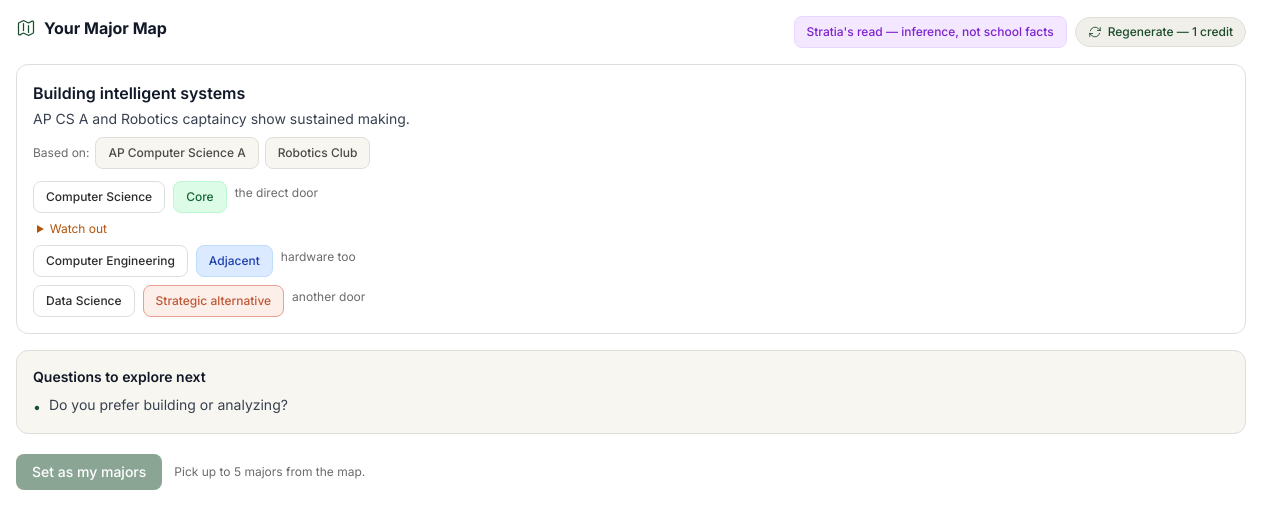
Test: MajorMapCard — generated state › selecting chips and clicking Set as my majors persists via set-intended-majors
The width and height of the screenshot is (1263, 507).
Expected: the heading "Building intelligent systems" is shown, [33, 83, 245, 103]
Click the button with aria-label "Select Computer Science" at x=99, y=197, box [33, 181, 165, 213]
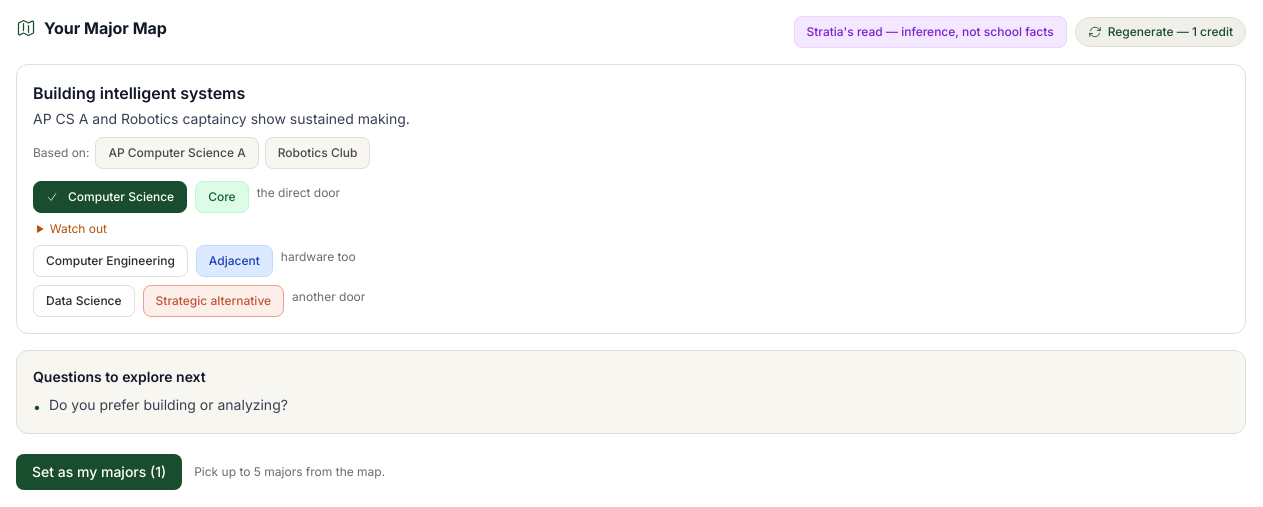
Click the button with aria-label "Select Data Science" at x=84, y=301, box [33, 285, 135, 317]
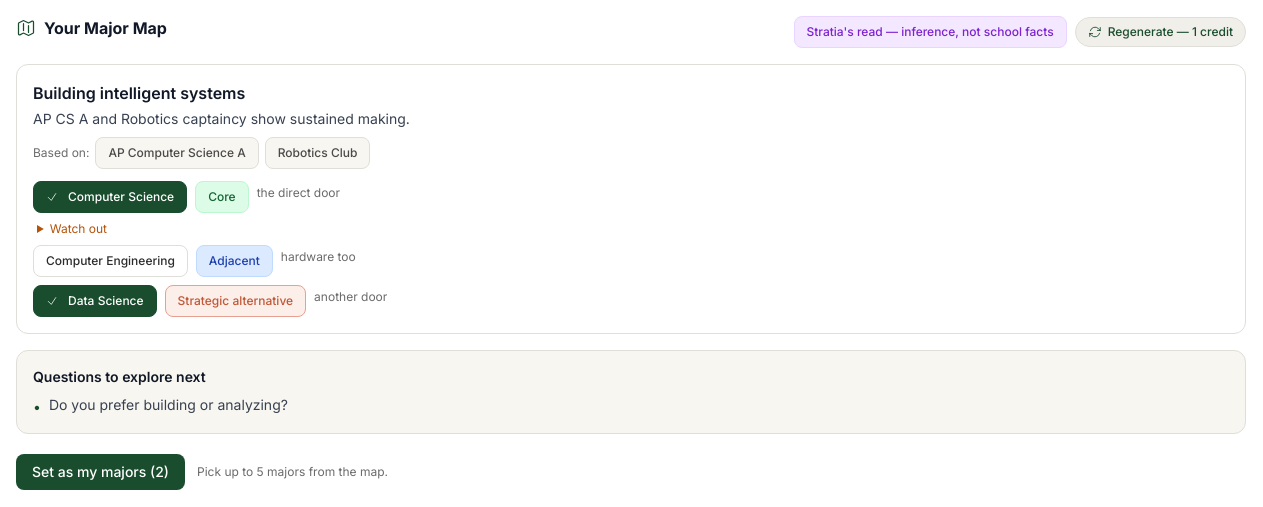
Click the button "Set as my majors (2)" at x=100, y=472, box [16, 454, 185, 490]
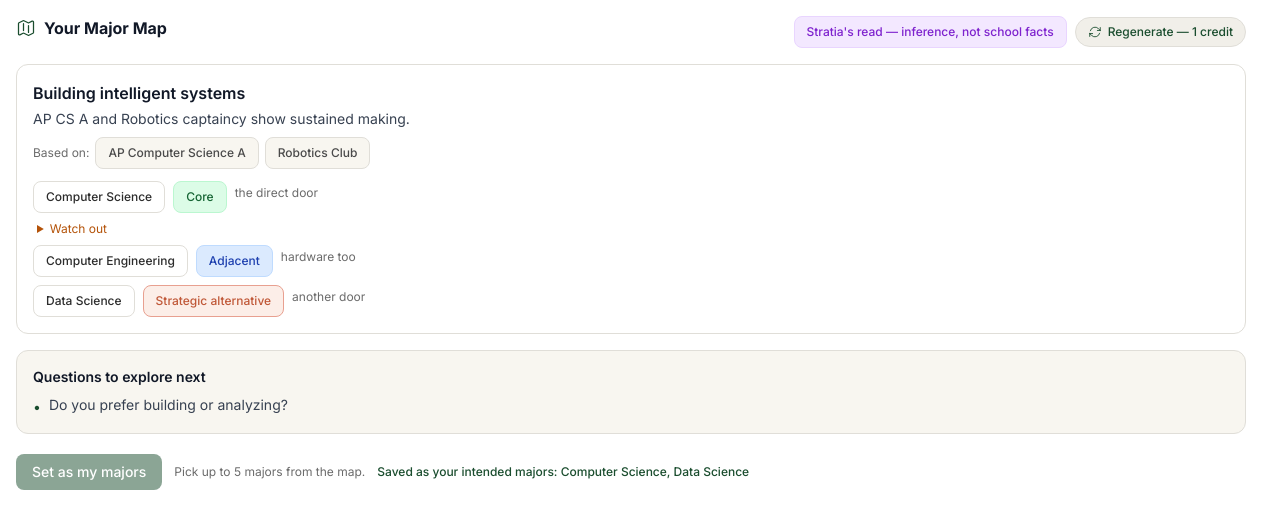
Expected: the text with test id "majors-saved-note" shows "Computer Science", [377, 464, 749, 479]
